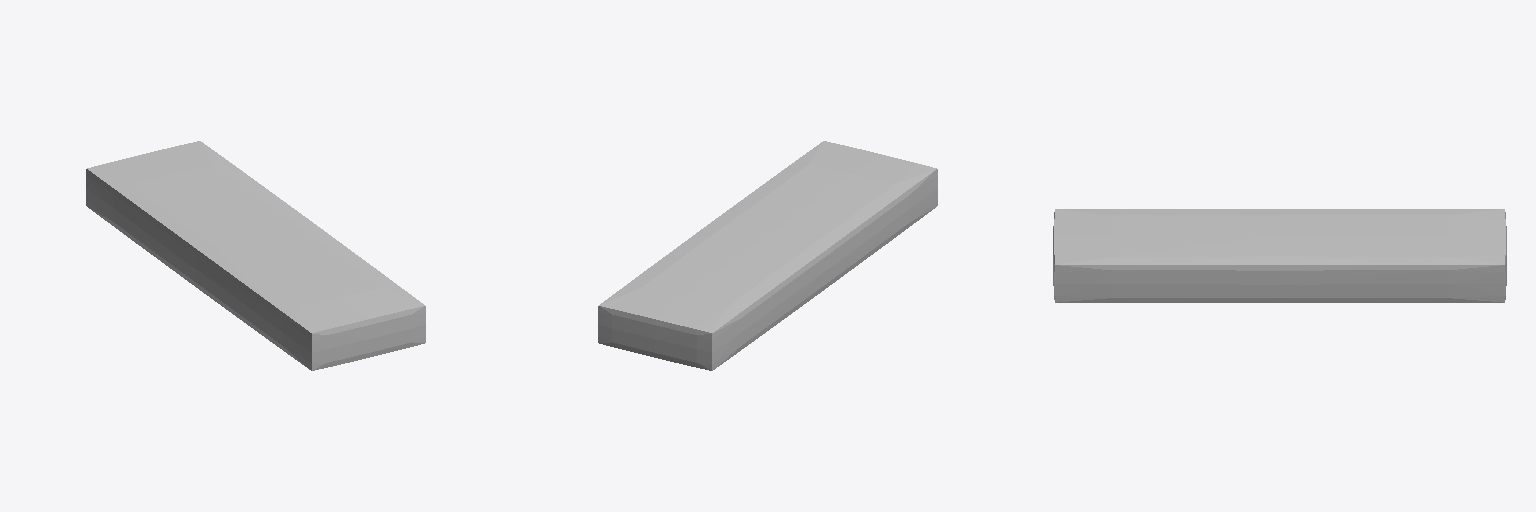
File: Platform.obj
The picture shows the model from 3 angles: view 1: azimuth 30°, elevation 25°; view 2: azimuth 150°, elevation 25°; view 3: azimuth 270°, elevation 25°; orthographic projection.
Parts seen in each view (by area): view 1: pCube1; view 2: pCube1; view 3: pCube1.
Boxes of the visible parts, box(x1,y1,x2,y2) form: pCube1: box(86, 141, 425, 370); pCube1: box(598, 141, 937, 370); pCube1: box(1053, 209, 1506, 302).
Bounding box in the file's own units: 2.98 × 1 × 10.01.